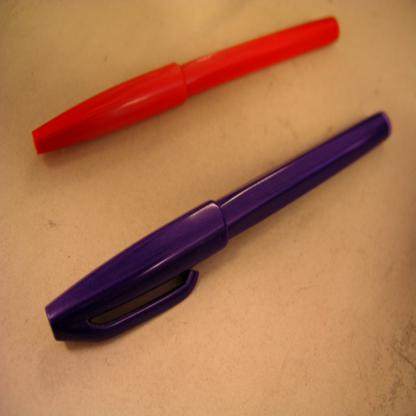Pen: (39, 108, 394, 342), (31, 14, 340, 158)
